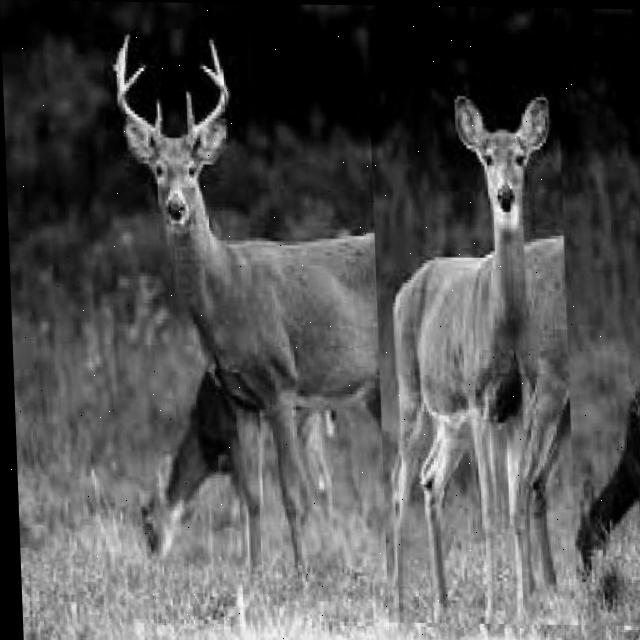Deer: (369, 76, 580, 626)
